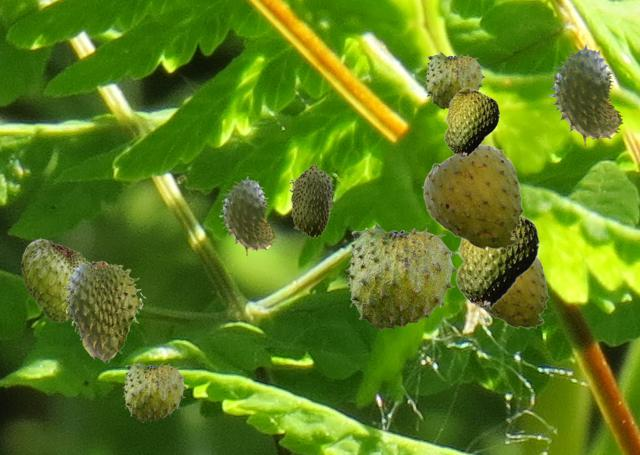guyabano: (345, 222, 457, 329), (421, 144, 523, 251), (62, 260, 145, 362), (454, 215, 539, 309), (549, 44, 622, 146), (21, 237, 86, 321), (482, 257, 548, 329), (219, 176, 275, 255), (443, 87, 499, 157), (122, 360, 186, 421), (424, 51, 484, 108), (289, 162, 333, 237)
